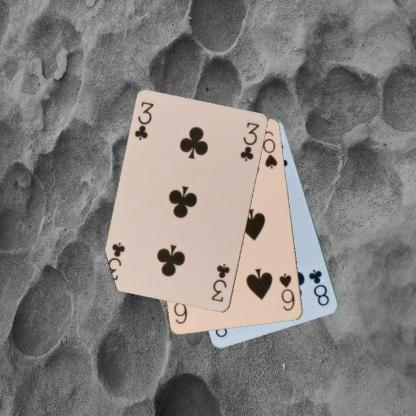3c: (209, 261, 232, 304), (132, 99, 155, 142)
6s: (277, 270, 296, 312)
8c: (306, 266, 331, 308)
